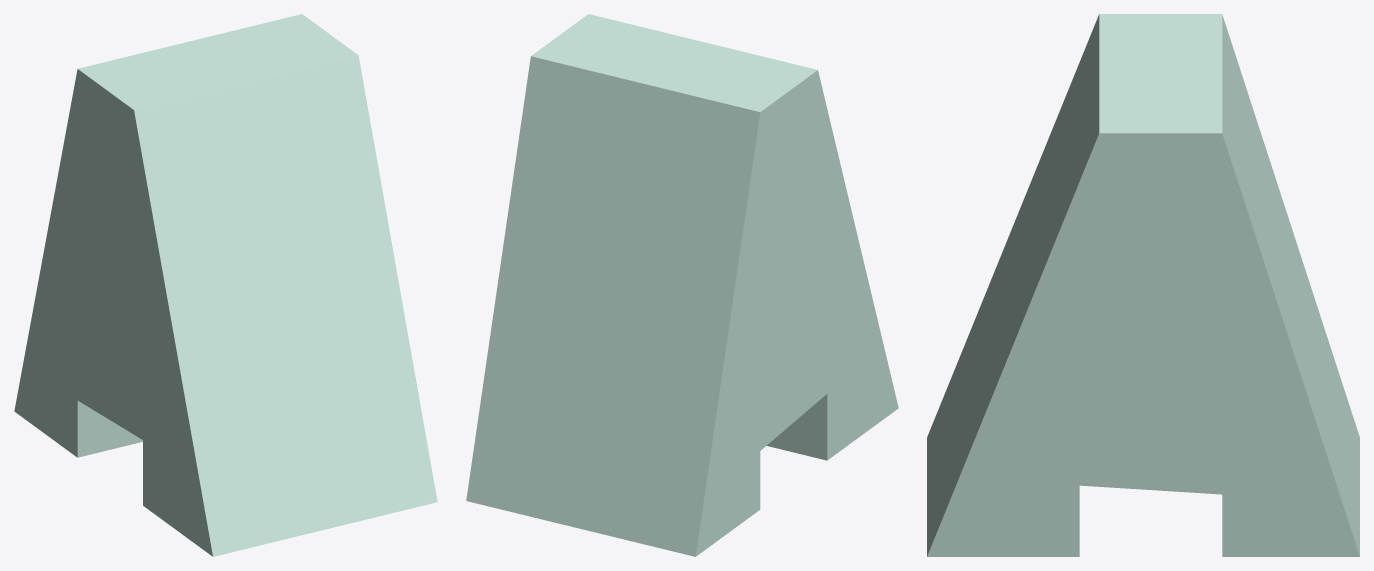
The picture shows the model from 3 angles, left to right: view 1: azimuth 30°, elevation 25°; view 2: azimuth 150°, elevation 25°; view 3: azimuth 270°, elevation 25°; orthographic projection. The views are drawn at different scales.
Parts seen in each view (by area): view 1: Renderer Node; view 2: Renderer Node; view 3: Renderer Node.
Boxes of the visible parts, x1,y1,x2,y2 form: Renderer Node: (14,14,437,556); Renderer Node: (466,14,898,556); Renderer Node: (927,14,1359,556).
Bounding box in the file's own units: 0.4531 × 0.75 × 0.6947.
